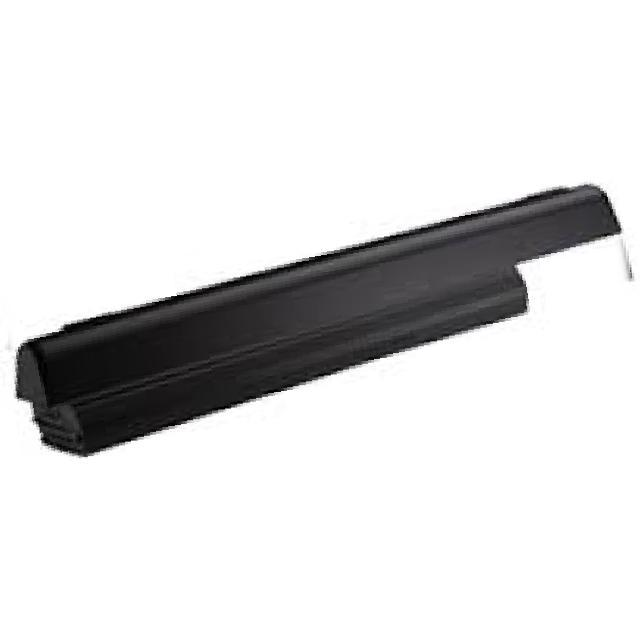Battery: (18, 163, 632, 462)
